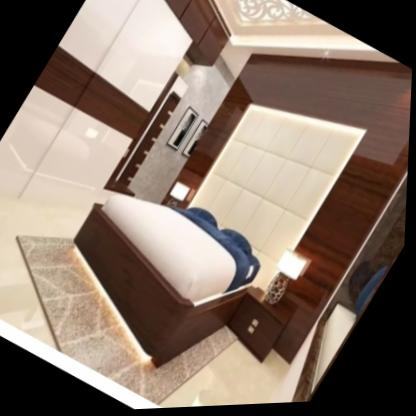Bed: (41, 151, 286, 386)
Frame: (163, 103, 205, 157)
Lamp: (256, 248, 315, 317)
Nightstand: (216, 285, 302, 373)
